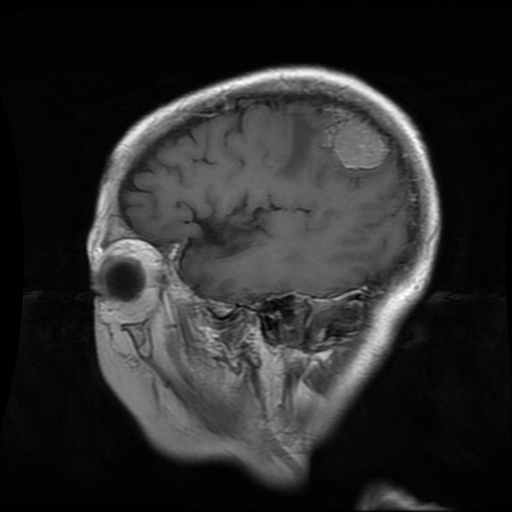meningioma: (319, 105, 387, 170)
